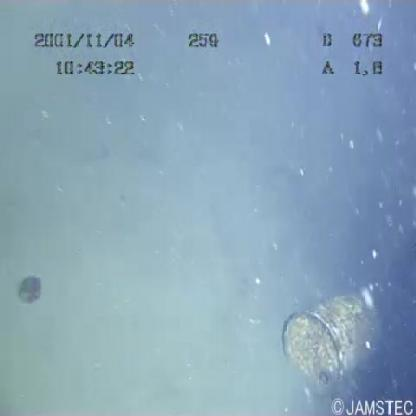Rác: (275, 288, 385, 395)
